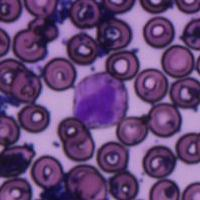N: (72, 72, 129, 129)
